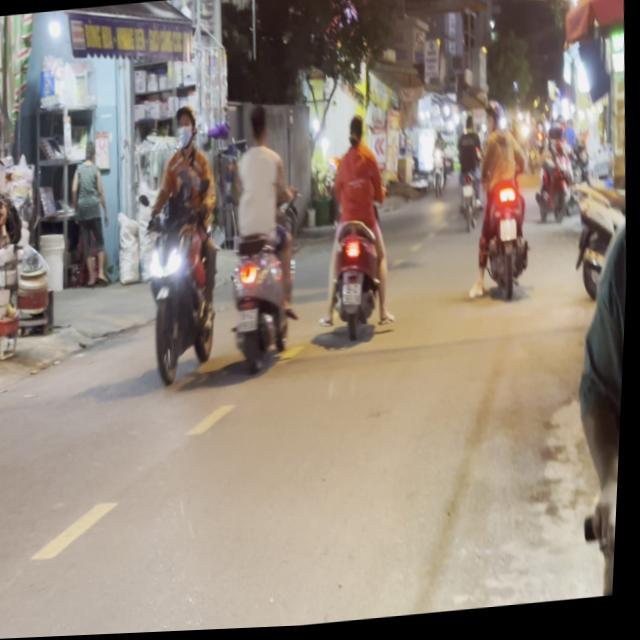helmet: (173, 103, 198, 151), (491, 104, 512, 137)
licenseplate: (132, 97, 235, 392), (218, 100, 312, 380), (314, 110, 403, 352), (467, 98, 541, 308)
motorcyclist: (248, 104, 271, 147), (346, 114, 366, 150)
nohelmet: (240, 310, 261, 334), (345, 284, 365, 308)
